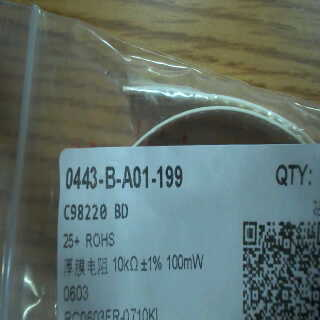10kR: (110, 253, 139, 277)
